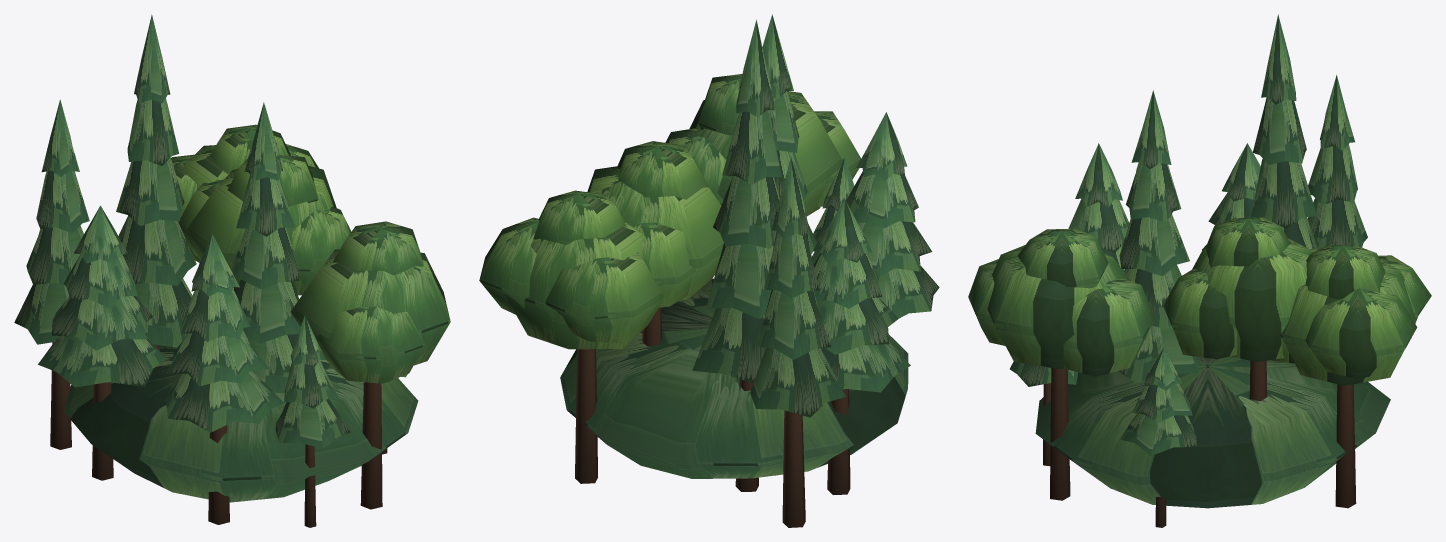
The model's file is forest-mass-c.glb.
3 renders of one model, left to right at view 1: azimuth 30°, elevation 25°; view 2: azimuth 150°, elevation 25°; view 3: azimuth 270°, elevation 25°, orthographic. The views are drawn at different scales.
Parts seen in each view (by area): view 1: Needles, Trunk; view 2: Needles, Trunk; view 3: Needles, Trunk.
Part boxes in pixels (x1,y1,x2,y2): Needles: (14, 14, 450, 502); Trunk: (50, 287, 387, 527); Needles: (479, 14, 939, 478); Trunk: (575, 307, 850, 527); Needles: (968, 14, 1431, 508); Trunk: (1043, 360, 1356, 527).
Size of the model in its own units: 9.89 by 12.6 by 12.27.
2 materials, 1 textured.
